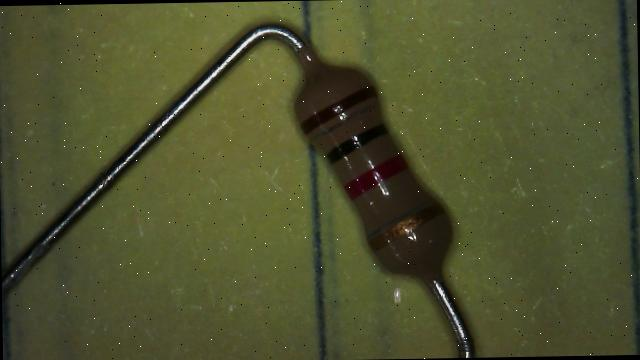black: (327, 124, 388, 164)
brown: (302, 85, 378, 134)
gold: (369, 203, 443, 250)
red: (344, 154, 410, 198)
resistor: (249, 26, 490, 311)
